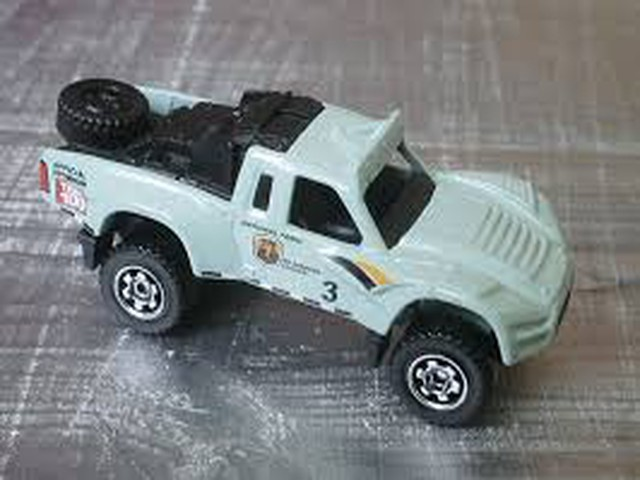Vehicle: (38, 72, 579, 432)
